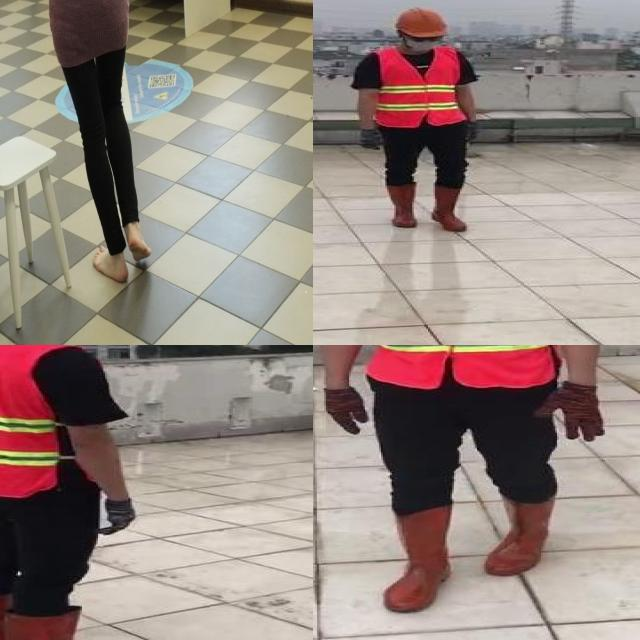Barefoots: (92, 246, 128, 282), (126, 230, 152, 261)
boots: (378, 508, 450, 614), (482, 496, 557, 578), (0, 606, 122, 640), (430, 183, 469, 232), (383, 182, 422, 229), (0, 590, 20, 640)
face_mask: (403, 33, 442, 53)
glasses: (406, 35, 446, 44)
hand_glove: (534, 383, 603, 443), (321, 386, 368, 436), (102, 497, 137, 536), (357, 128, 383, 151), (460, 123, 483, 145)
head_helmet: (386, 5, 452, 40)
person: (313, 345, 614, 618), (0, 345, 138, 640), (347, 2, 486, 244)
vest: (0, 345, 74, 500), (345, 345, 556, 387), (371, 49, 469, 127)
